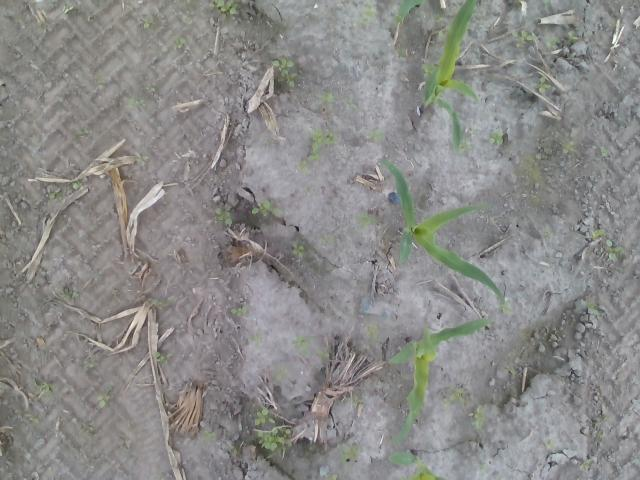Maize: (376, 158, 504, 304), (386, 316, 494, 442), (420, 1, 480, 154), (387, 446, 449, 480), (393, 0, 428, 25)
Weeds: (254, 406, 295, 453), (308, 127, 338, 161), (270, 56, 298, 91), (440, 384, 466, 415), (250, 198, 282, 218), (508, 28, 536, 49), (468, 403, 488, 432), (32, 377, 55, 400), (364, 319, 380, 352), (582, 299, 608, 318), (358, 0, 376, 27), (338, 442, 362, 462), (606, 237, 625, 261), (353, 213, 377, 232), (208, 0, 238, 15), (214, 205, 235, 226), (95, 384, 112, 408), (294, 334, 314, 354), (318, 94, 338, 111), (528, 78, 552, 92), (543, 32, 561, 50), (72, 127, 91, 144), (224, 440, 242, 456), (488, 129, 506, 145), (290, 239, 306, 257), (134, 152, 151, 168), (272, 365, 288, 381), (294, 158, 308, 176), (154, 350, 168, 368), (174, 35, 193, 48), (578, 456, 593, 472), (143, 15, 156, 32), (128, 95, 146, 107), (560, 140, 576, 153), (230, 306, 248, 317), (368, 129, 383, 142), (64, 287, 80, 299), (591, 414, 608, 425), (320, 234, 336, 245), (591, 228, 608, 238), (346, 98, 358, 112), (566, 30, 578, 44), (202, 430, 217, 441), (63, 0, 74, 15), (144, 82, 160, 92), (398, 46, 408, 62), (319, 350, 332, 362), (351, 392, 359, 410), (80, 424, 96, 433), (544, 438, 558, 448), (502, 304, 514, 315), (542, 0, 552, 13), (80, 360, 96, 368), (70, 180, 81, 191), (600, 146, 610, 158), (48, 191, 61, 200), (249, 335, 262, 344), (506, 366, 517, 376), (151, 296, 161, 306), (612, 266, 625, 273), (543, 230, 552, 240), (324, 474, 338, 480), (31, 416, 40, 425), (458, 142, 465, 153), (478, 463, 486, 472), (47, 0, 56, 7), (472, 128, 480, 135)
